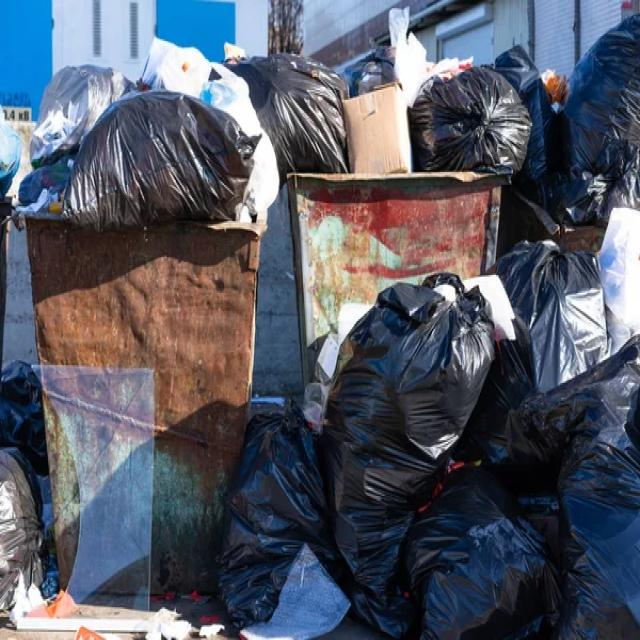garbage: (322, 247, 639, 621), (0, 490, 270, 638)
